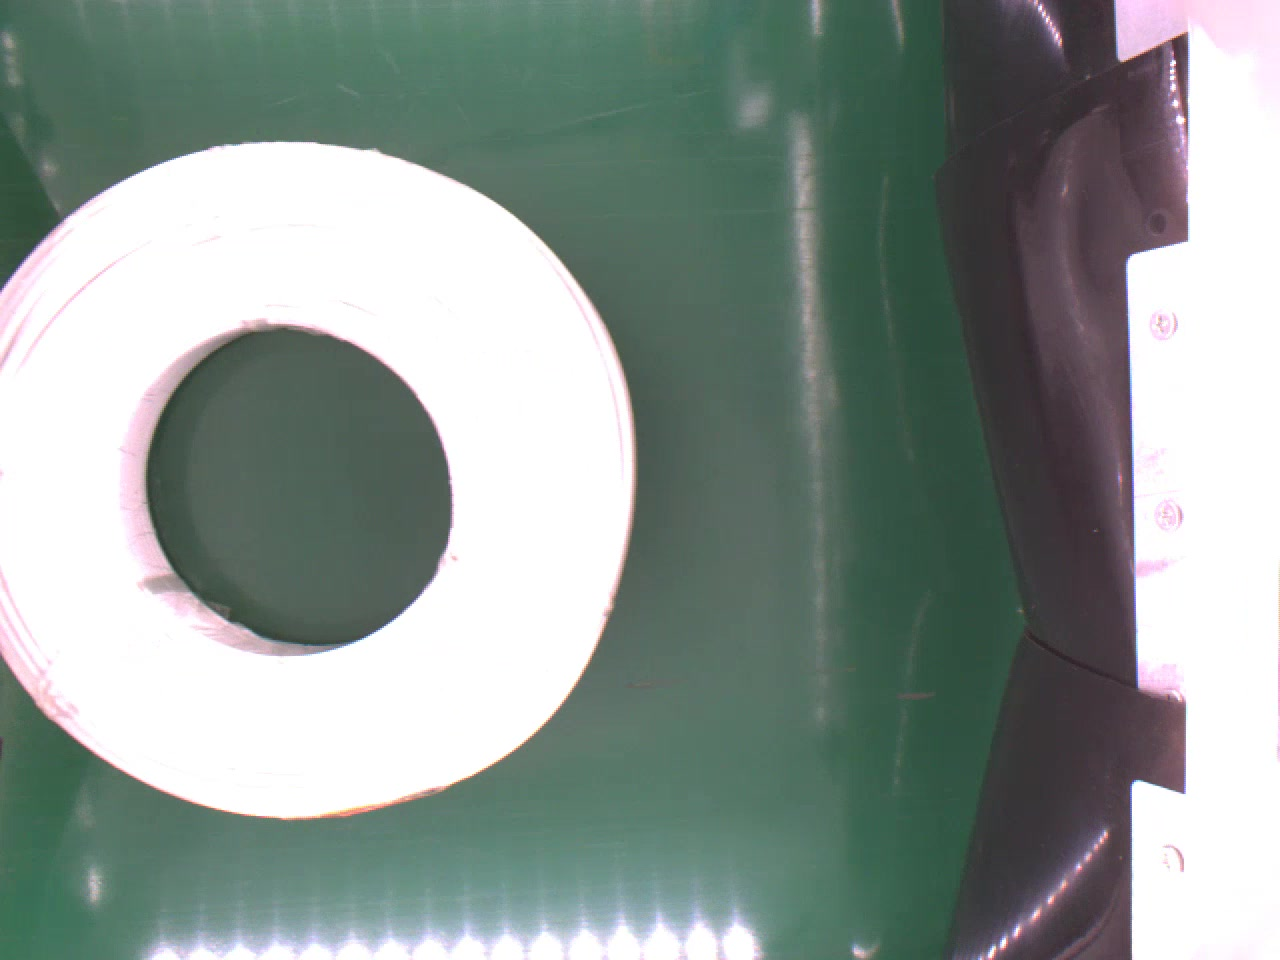white: (2, 140, 640, 813)
